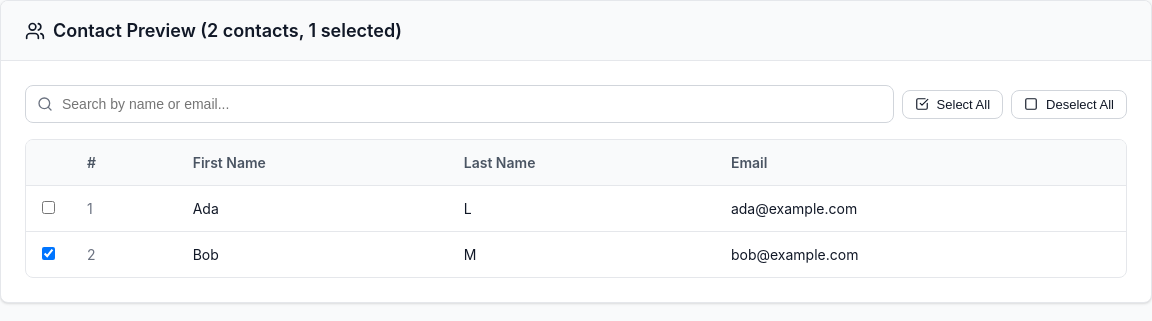
Test: ContactTable › filters without losing selection identity
The width and height of the screenshot is (1152, 321).
In the field named "Search contacts": (459, 104) [25,85,894,123], type "bob"
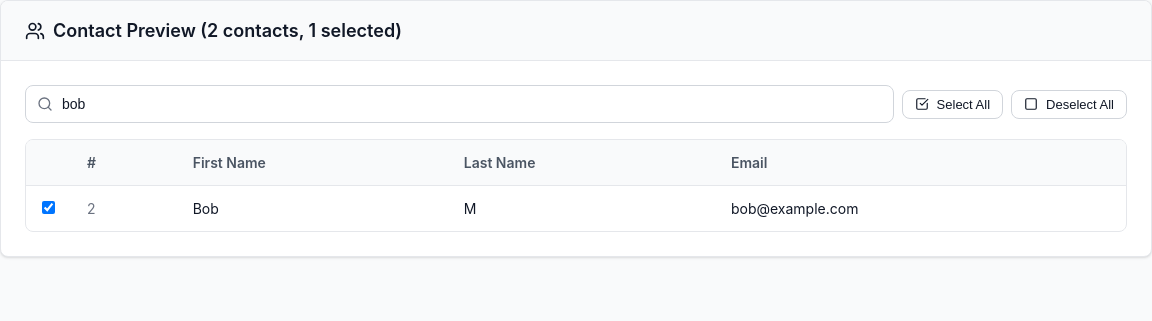
Expected: the text "bob@example.com" is shown, [715,186,1126,231]
Expected: the text "ada@example.com" is gone
